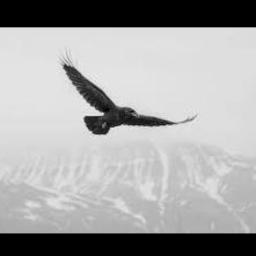Crow: (58, 48, 200, 135)
